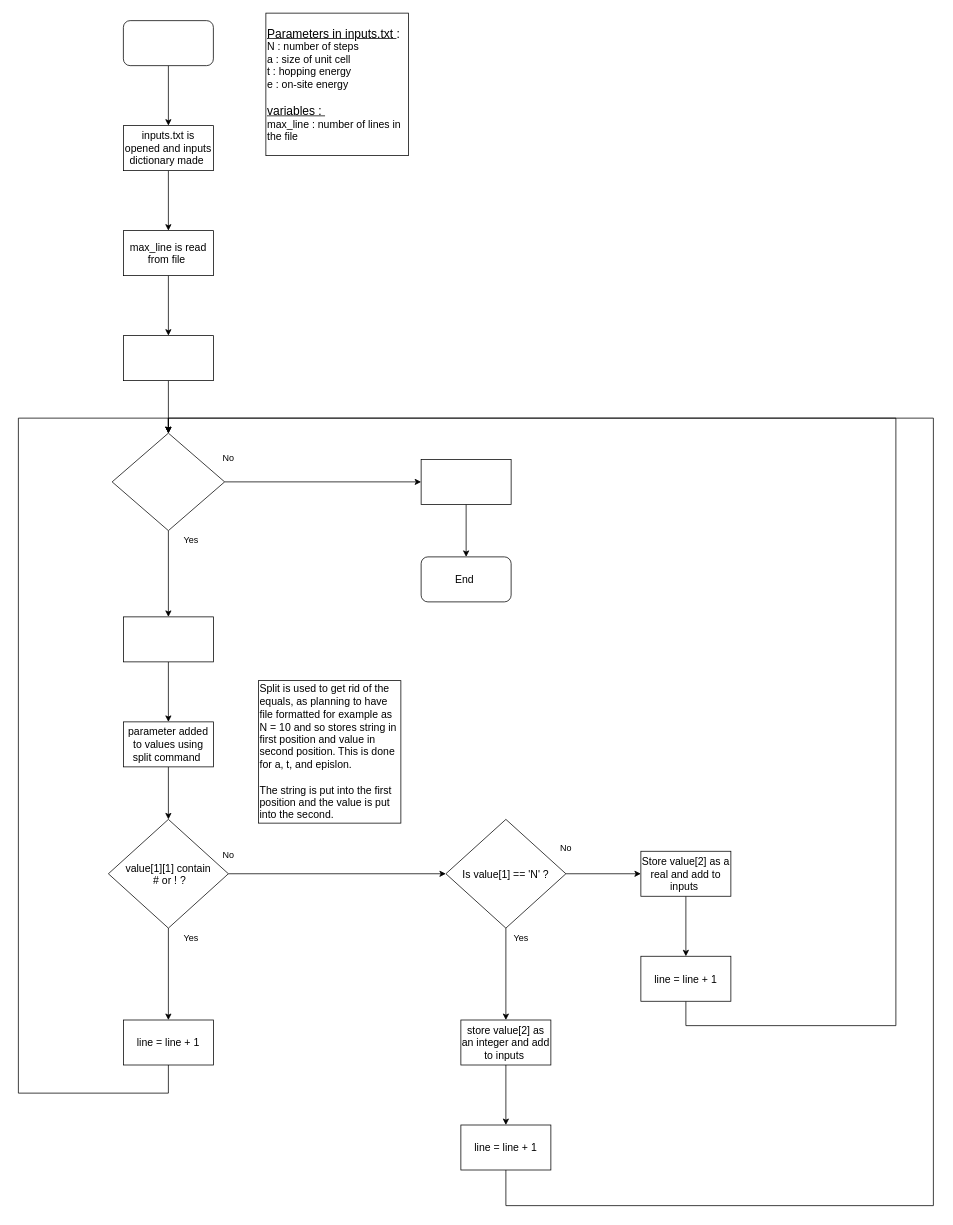
Image size: 953x1225. Some labels were removed from this diagram. The centre of each missing label's shape, as x and y in pixels:
"close file and return inputs" goes at point 465,481.
"line <= max_line?" goes at point 168,481.
"line = 1" goes at point 168,358.
"Start" goes at point 168,43.
"values array is made" goes at point 168,639.
